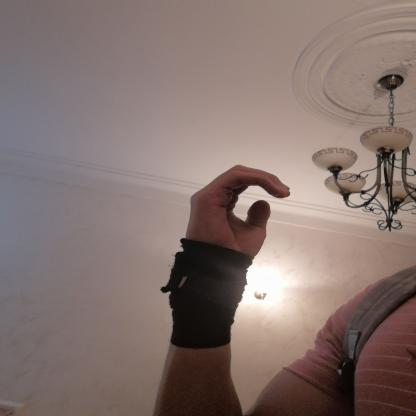JEEM: (168, 155, 303, 279)
